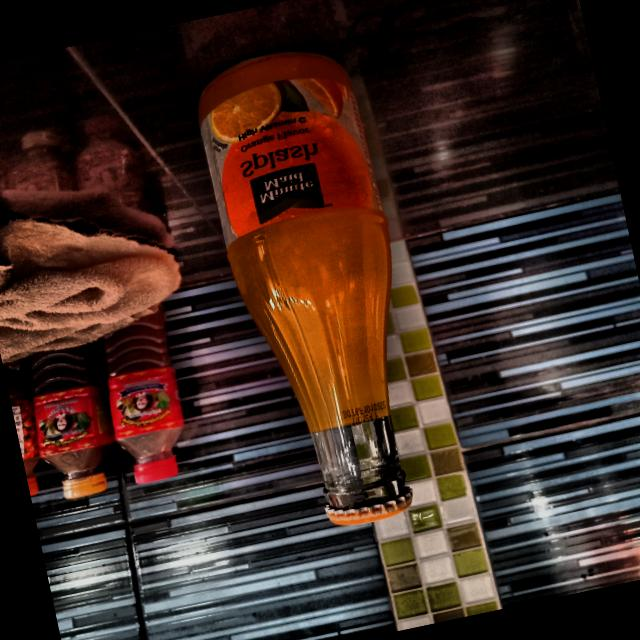plastic bottle: (101, 306, 183, 484), (27, 345, 113, 499)
